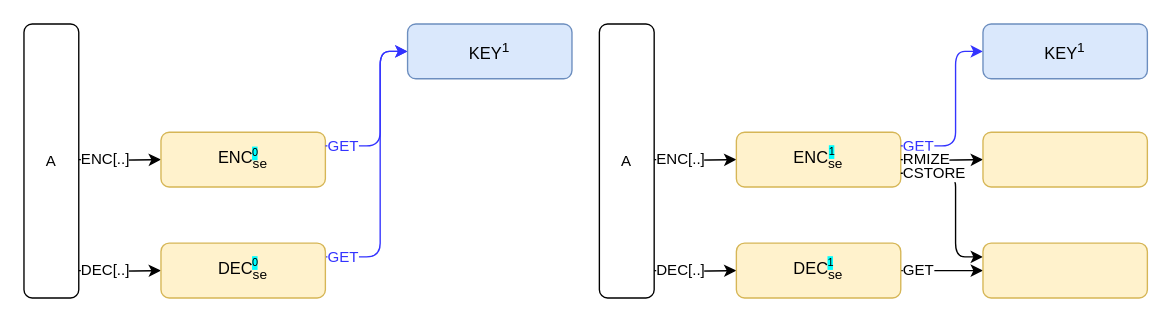
The diagram is 1171 pixels wide and 322 high, and some of its shapes have lost their labels. The box of each missing label's shape, as (x1, y1, x2, y2) in pixels:
ARRAY ciph [.. : ciph]: (982, 242, 1147, 298)
RAND: (982, 131, 1147, 187)
